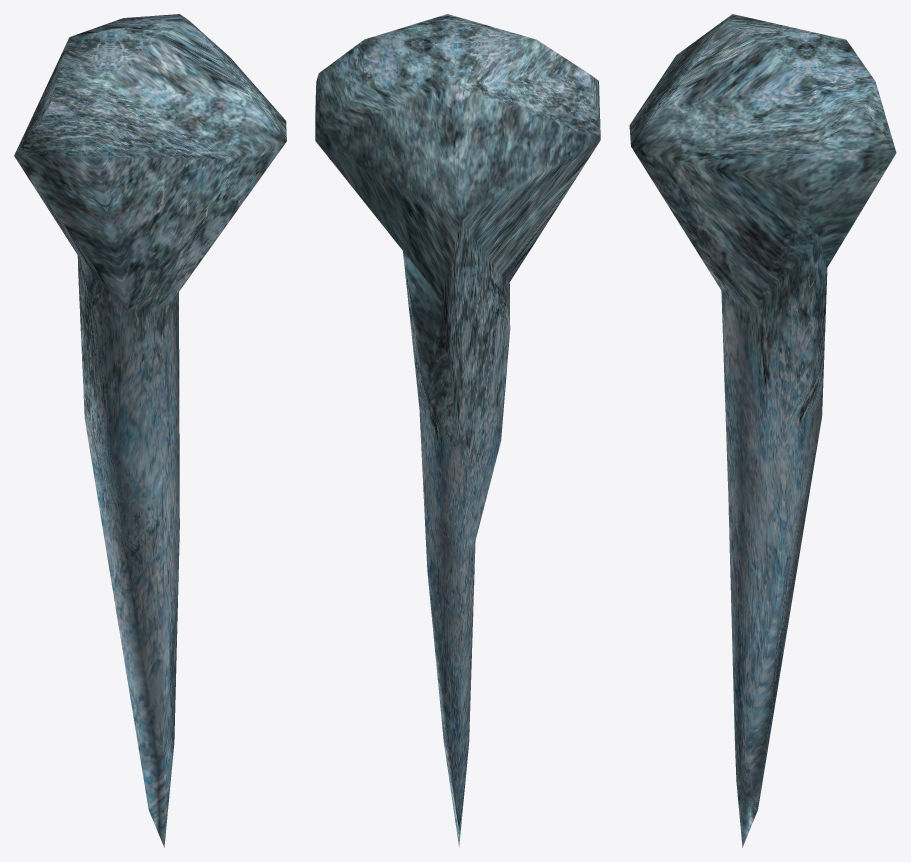
Rendered from thm_all_cave_stalagtite_ice_a2_l0.fbx.
3 renders of one model, left to right at view 1: azimuth 30°, elevation 25°; view 2: azimuth 150°, elevation 25°; view 3: azimuth 270°, elevation 25°, orthographic. The views are drawn at different scales.
Visible parts, largest first — view 1: mesh_node; view 2: mesh_node; view 3: mesh_node.
Boxes of the visible parts, x1=… form: mesh_node: x1=14, y1=14, x2=286, y2=847; mesh_node: x1=315, y1=14, x2=600, y2=847; mesh_node: x1=629, y1=14, x2=896, y2=847.
Size of the model in its own units: 0.6292 by 1.92 by 0.5774.
